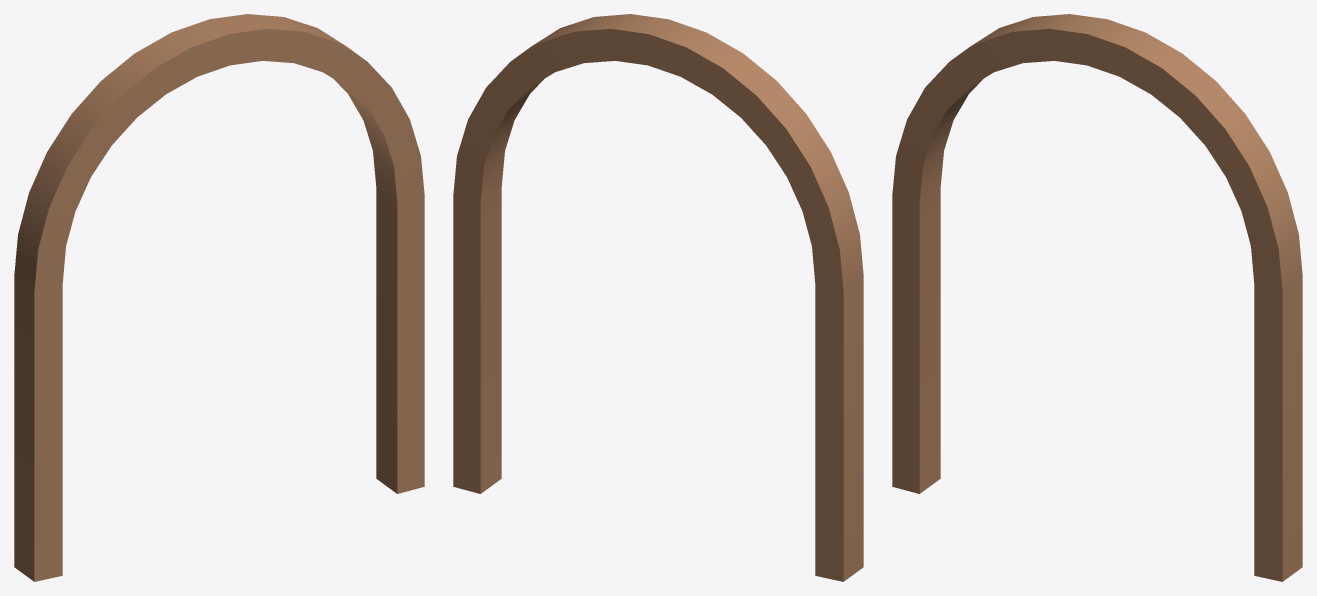
The model's file is Environment_Arch.fbx.
3 views of the same model, side by side, from view 1: azimuth 30°, elevation 25°; view 2: azimuth 150°, elevation 25°; view 3: azimuth 330°, elevation 25° (orthographic).
Visible parts, largest first — view 1: Environment_Arch; view 2: Environment_Arch; view 3: Environment_Arch.
Boxes of the visible parts, <box> form: Environment_Arch: <box>14,14,424,581</box>; Environment_Arch: <box>453,14,863,581</box>; Environment_Arch: <box>892,14,1302,581</box>.
Bounding box in the file's own units: 614 × 753 × 57.37.
